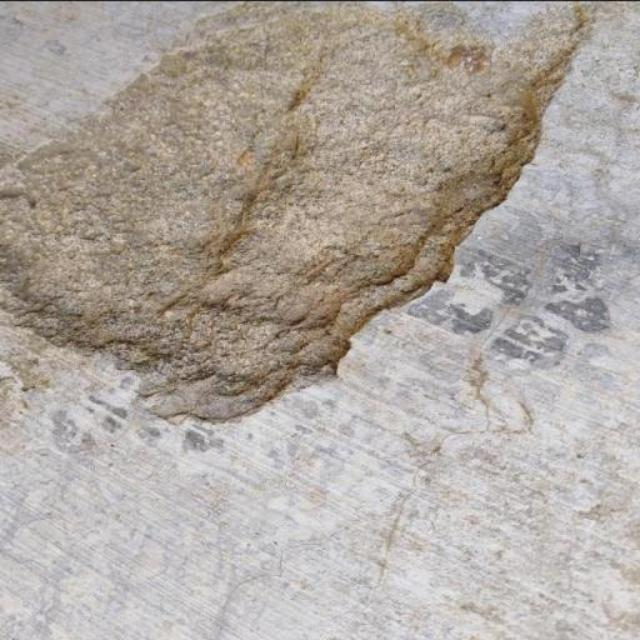D10: (2, 2, 565, 424)
